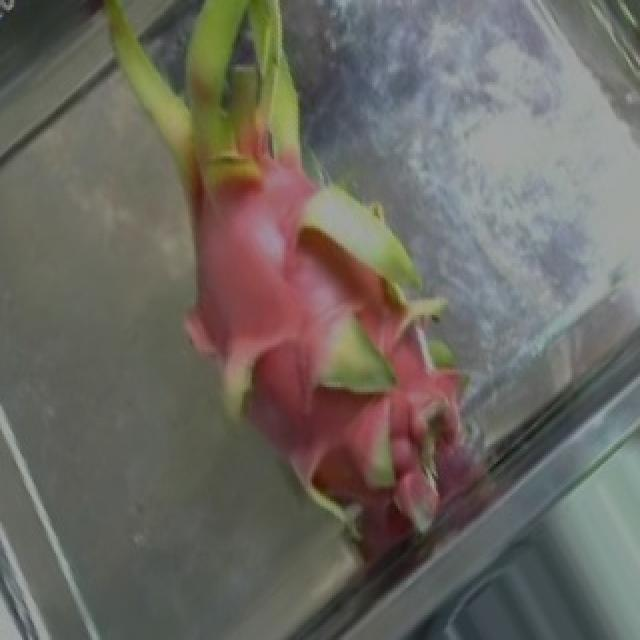fruit: (134, 193, 558, 640), (16, 0, 446, 419)
